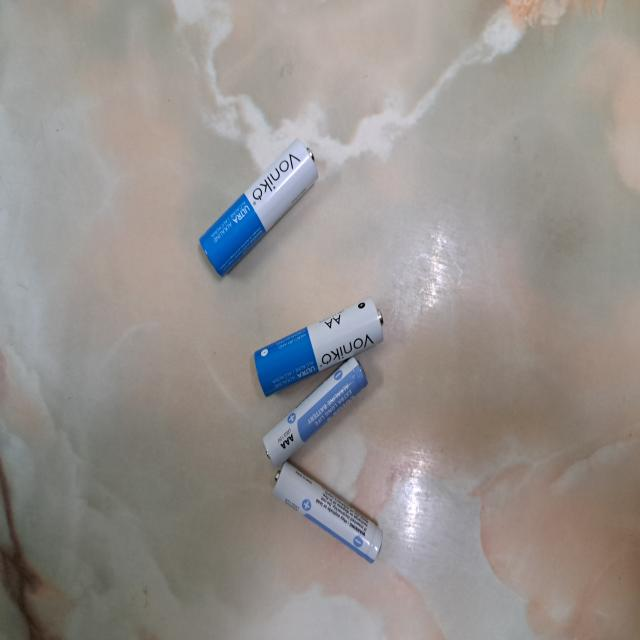battery: (199, 139, 318, 278), (254, 298, 386, 396), (262, 357, 367, 469), (272, 462, 384, 563)
